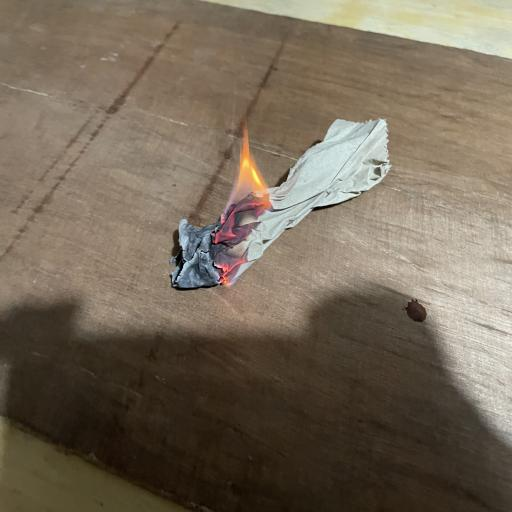fire: (182, 130, 296, 284)
